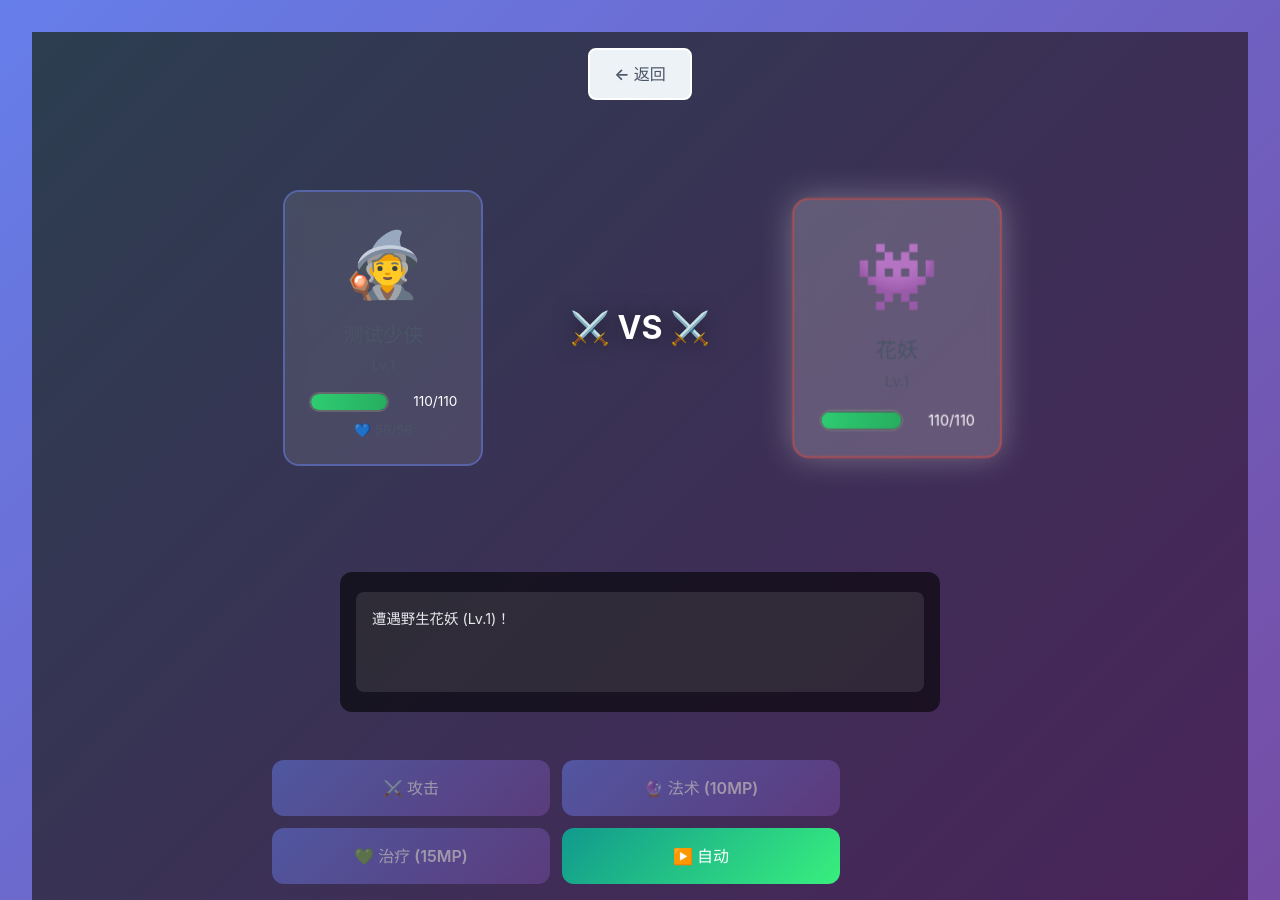
Scenario: Battle Component › should toggle auto battle
Click the button "▶️ 自动" at {"x": 701, "y": 856}, box 562,828 -> 840,884
Wait 100 ms
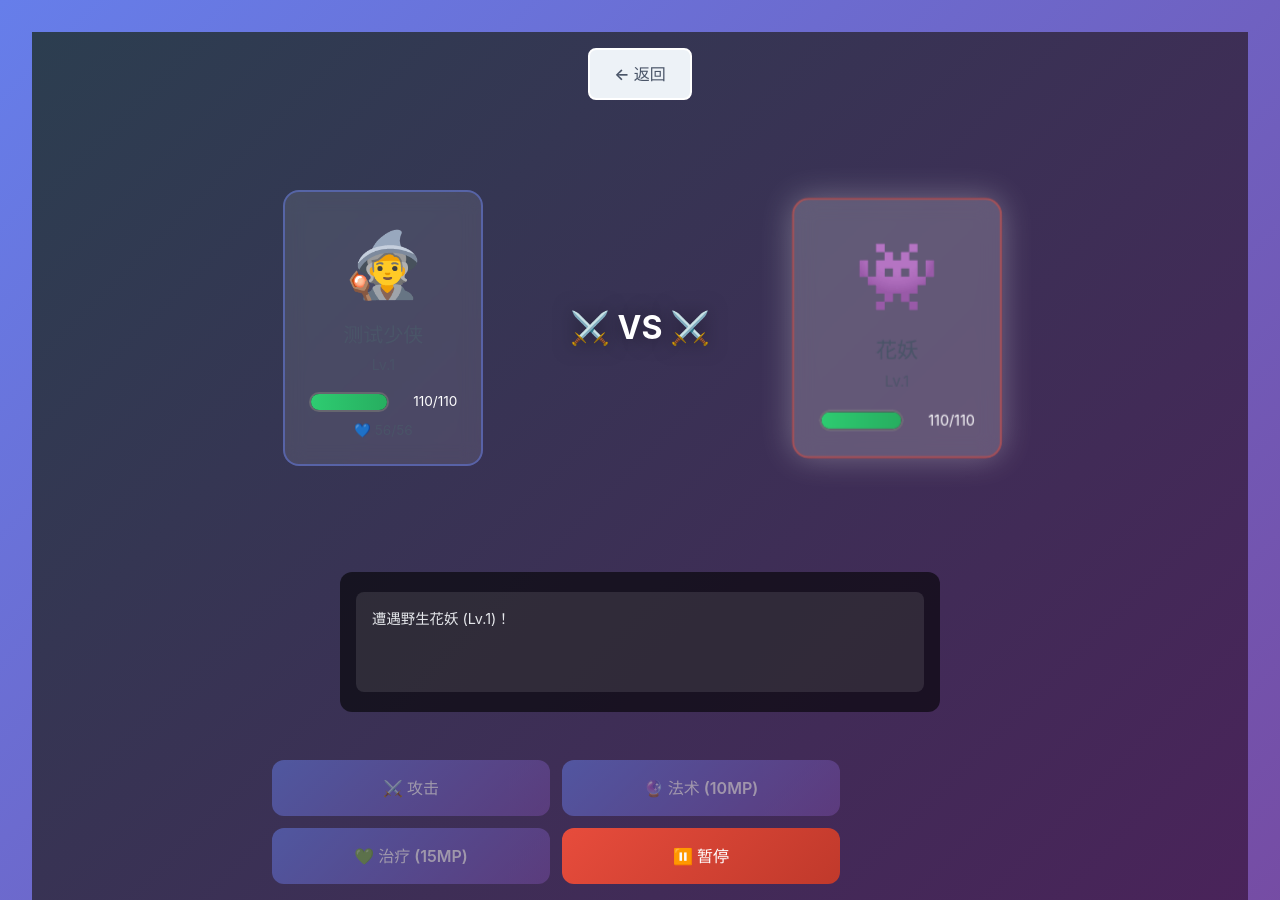
Check: the button "⏸️ 暂停" is shown, box 562,828 -> 840,884
